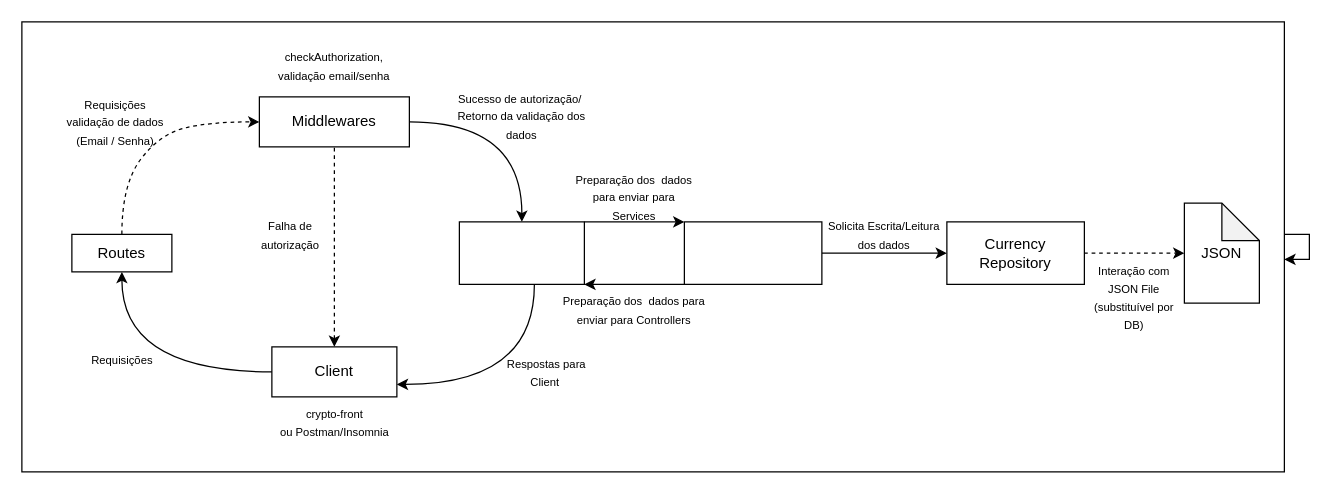
The diagram is 1341 pixels wide and 494 high, and some of its shapes have lost their labels. Here are the shapes that lost their labels. From the top down, the centre of each, then its label:
At (521,252): "Controllers".
At (752,252): "Services (Lógica de Negócio)".
